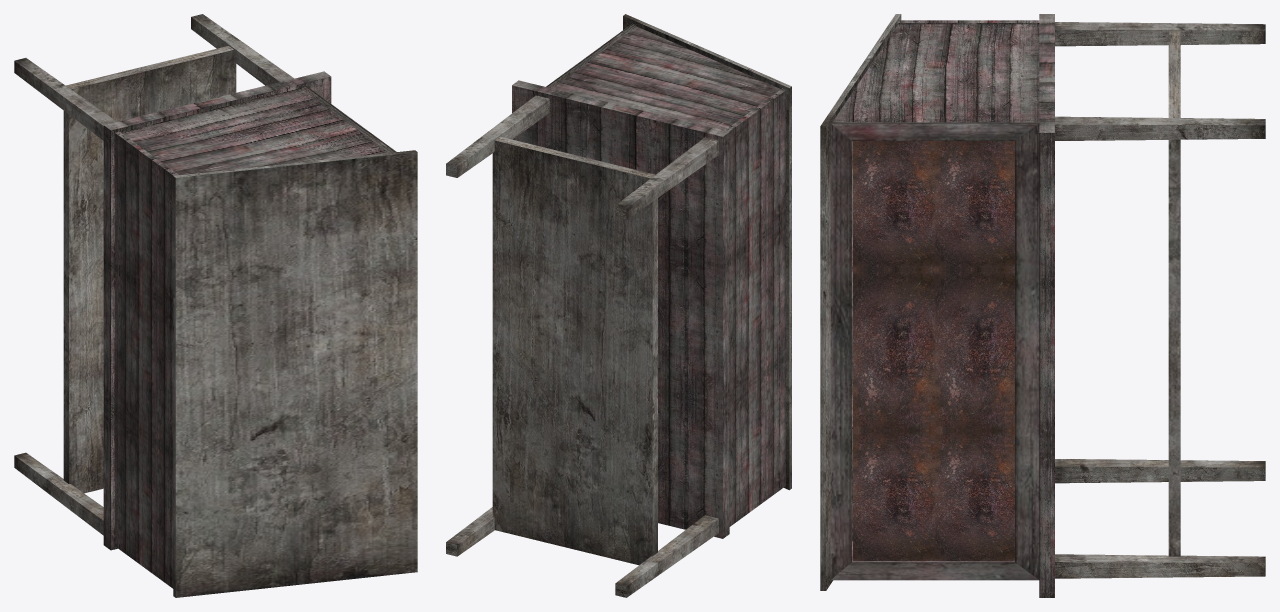
Rendered from prop_chickencoop.glb.
The picture shows the model from 3 angles, left to right: view 1: azimuth 30°, elevation 25°; view 2: azimuth 150°, elevation 25°; view 3: azimuth 270°, elevation 25°; orthographic projection. The views are drawn at different scales.
Size of the model in its own units: 46.14 by 83.94 by 72.87.
1 material, 1 textured.
